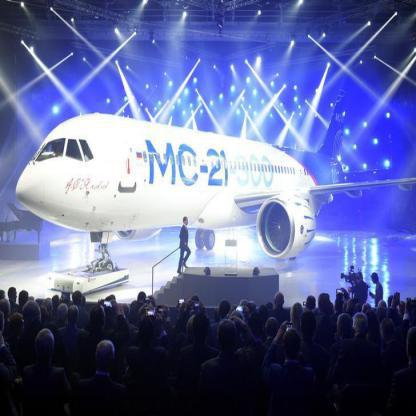CIV_Plane: (8, 100, 416, 266)
